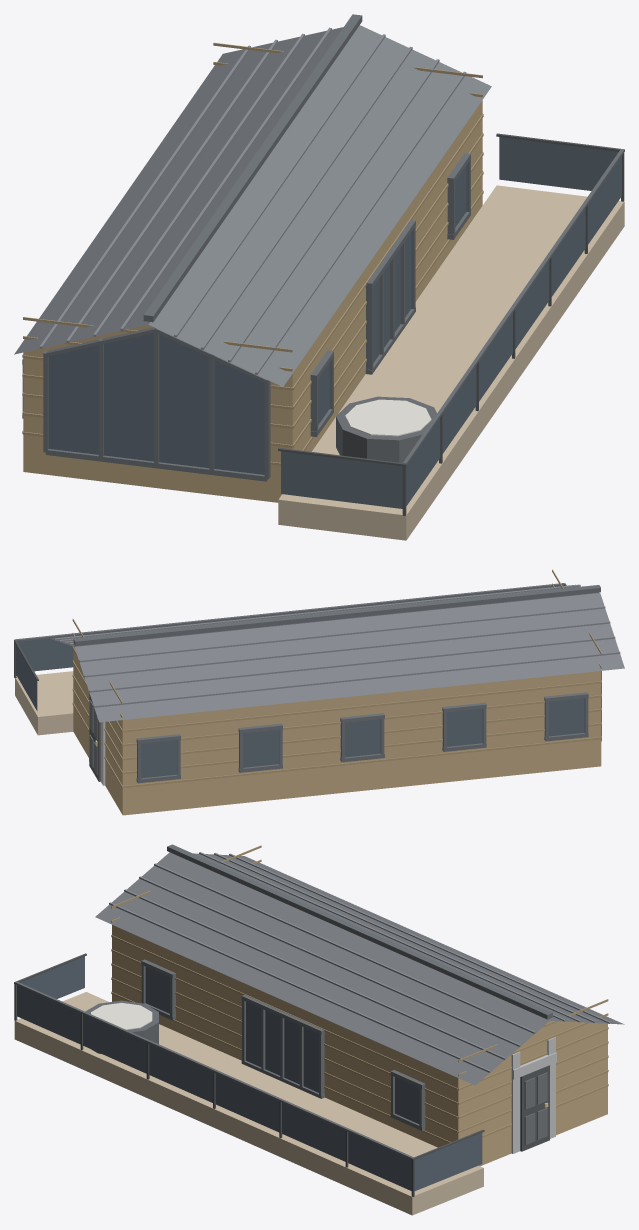
3 renders of one model, top to bottom at view 1: azimuth 30°, elevation 25°; view 2: azimuth 150°, elevation 25°; view 3: azimuth 270°, elevation 25°, orthographic. The views are drawn at different scales.
Parts seen in each view (by area): view 1: slate, larch, window_glass_015, door_wood, slate_dk, slate_lt, window_glass_007, door_wood_p, window_glass_008, band_dark, string, pipe (+6 smaller); view 2: slate, door_wood, slate_dk, slate_lt, door_wood_p, larch, window_glass_006, window_glass_016, window_glass_017, window_glass_020, window_glass_018, window_glass_019 (+4 smaller); view 3: slate, door_wood, larch, slate_dk, slate_lt, door_wood_p, window_glass_008, window_glass_004, window_glass_005, window_glass_001, window_glass_002, window_glass_006 (+14 smaller).
Part boxes in pixels (x1,y1,x2,y2): slate: (14, 25, 491, 386); larch: (278, 185, 624, 540); window_glass_015: (48, 333, 264, 474); door_wood: (23, 100, 482, 502); slate_dk: (22, 14, 624, 481); slate_lt: (39, 27, 466, 374); window_glass_007: (281, 451, 402, 508); door_wood_p: (22, 42, 483, 465); window_glass_008: (499, 137, 618, 190); band_dark: (336, 396, 436, 462); string: (345, 399, 431, 436); pipe: (278, 133, 624, 515); slate: (50, 584, 624, 722); door_wood: (73, 647, 601, 815); slate_dk: (15, 583, 601, 783); slate_lt: (54, 584, 620, 707); door_wood_p: (72, 569, 601, 788); larch: (15, 671, 73, 735); window_glass_006: (17, 638, 73, 671); window_glass_016: (141, 740, 176, 778); window_glass_017: (243, 729, 278, 767); window_glass_020: (549, 698, 584, 736); window_glass_018: (345, 719, 380, 757); window_glass_019: (447, 708, 482, 746); slate: (95, 852, 624, 1085); door_wood: (112, 925, 607, 1166); larch: (14, 992, 483, 1215); slate_dk: (14, 844, 552, 1159); slate_lt: (109, 852, 610, 1072); door_wood_p: (111, 845, 608, 1143); window_glass_008: (414, 1133, 482, 1190); window_glass_004: (215, 1073, 279, 1132); window_glass_005: (282, 1102, 345, 1161); window_glass_001: (17, 985, 80, 1044); window_glass_002: (83, 1014, 146, 1073); window_glass_006: (348, 1132, 411, 1190).
Bounding box in the file's own units: 15.06 × 3.7 × 14.8.
